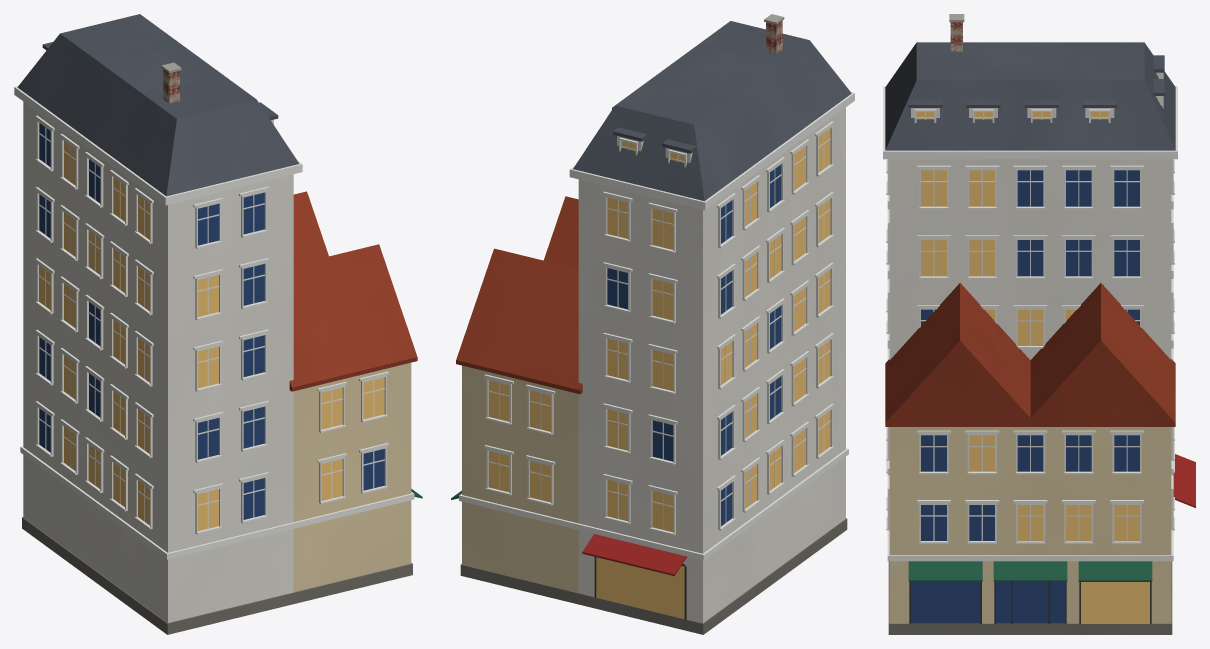
The model's file is dum_1d_obchody_2.glb.
3 views of the same model, side by side, from view 1: azimuth 30°, elevation 25°; view 2: azimuth 150°, elevation 25°; view 3: azimuth 270°, elevation 25° (orthographic). The views are drawn at different scales.
Parts seen in each view (by area): view 1: dum, noc; view 2: dum, noc; view 3: dum, noc.
Part boxes in pixels (left/top/right/bottom): dum: left=14, top=14, right=422, bottom=634; noc: left=39, top=141, right=384, bottom=531; dum: left=451, top=14, right=854, bottom=634; noc: left=488, top=128, right=830, bottom=618; dum: left=883, top=14, right=1195, bottom=634; noc: left=916, top=112, right=1149, bottom=623.
Size of the model in its own units: 12.65 by 23.84 by 13.01.
Materials: 1 (1 with a texture image).
